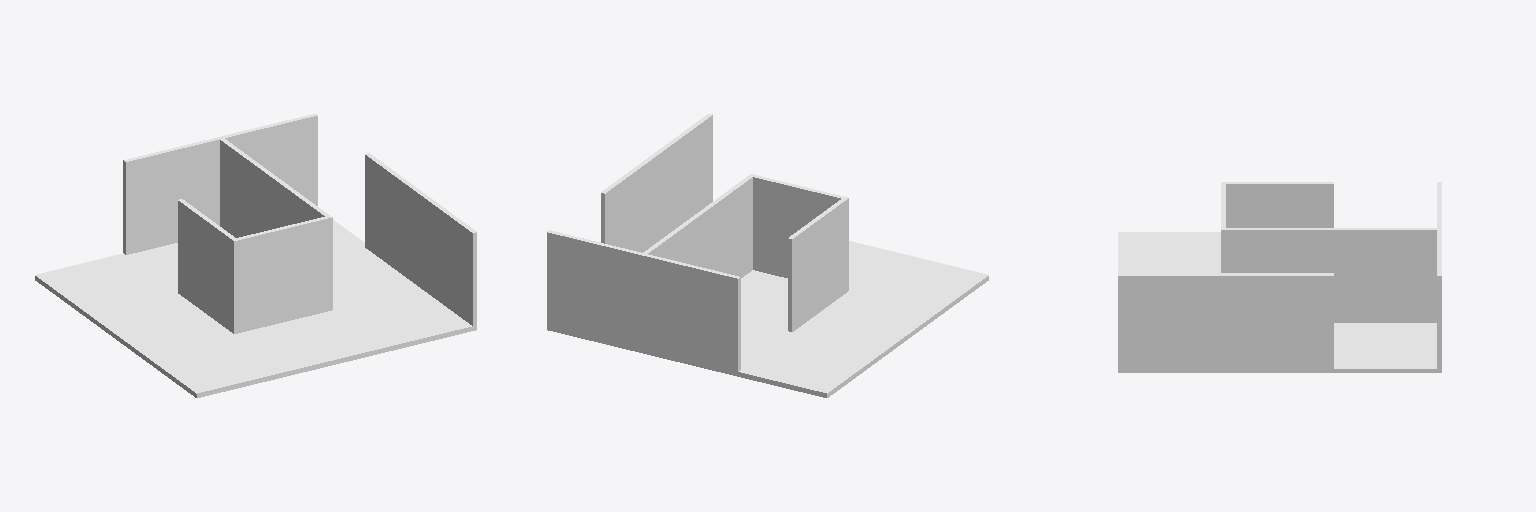
The model's file is level_maze-7.obj.
3 renders of one model, left to right at view 1: azimuth 30°, elevation 25°; view 2: azimuth 150°, elevation 25°; view 3: azimuth 270°, elevation 25°, orthographic.
Visible parts, largest first — view 1: level_maze-7; view 2: level_maze-7; view 3: level_maze-7.
Boxes of the visible parts, x1,y1,x2,y2 form: level_maze-7: [35, 114, 476, 397]; level_maze-7: [547, 114, 988, 397]; level_maze-7: [1118, 182, 1441, 372].
Bounding box in the file's own units: 60 × 20 × 60.